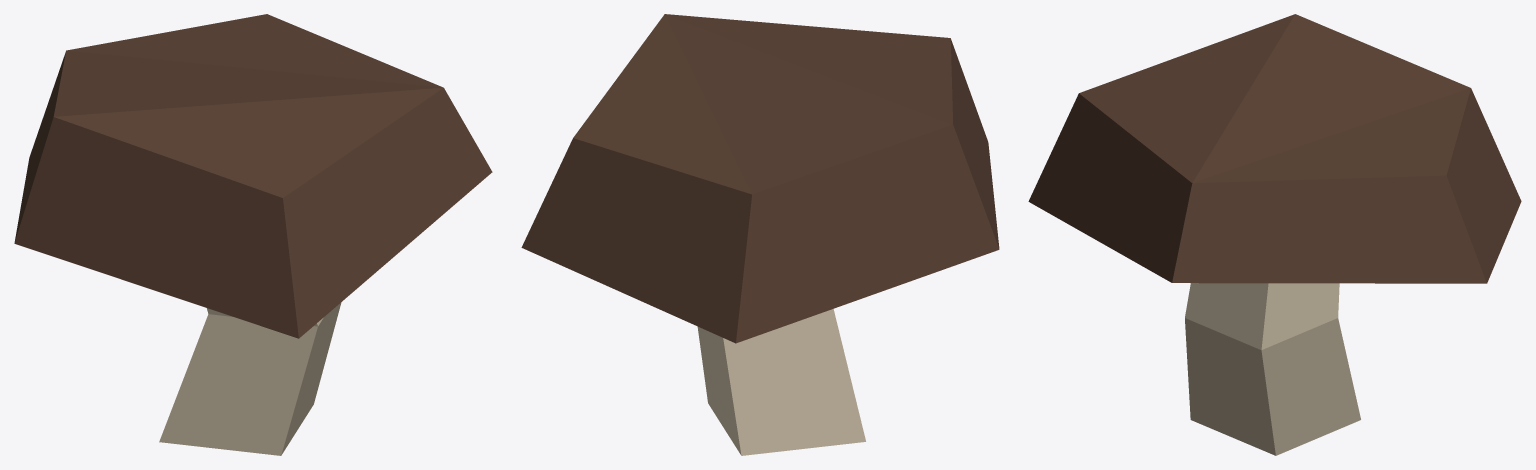
The model's file is TB_Env_Mushrm_C.FBX.
The picture shows the model from 3 angles, left to right: view 1: azimuth 30°, elevation 25°; view 2: azimuth 150°, elevation 25°; view 3: azimuth 270°, elevation 25°; orthographic projection. The views are drawn at different scales.
Parts seen in each view (by area): view 1: TB_Env_Mushrm_C; view 2: TB_Env_Mushrm_C; view 3: TB_Env_Mushrm_C.
Boxes of the visible parts, x1=… form: TB_Env_Mushrm_C: x1=14, y1=14, x2=492, y2=455; TB_Env_Mushrm_C: x1=521, y1=14, x2=999, y2=455; TB_Env_Mushrm_C: x1=1028, y1=14, x2=1521, y2=455.
Bounding box in the file's own units: 0.2463 × 0.1926 × 0.2645.
